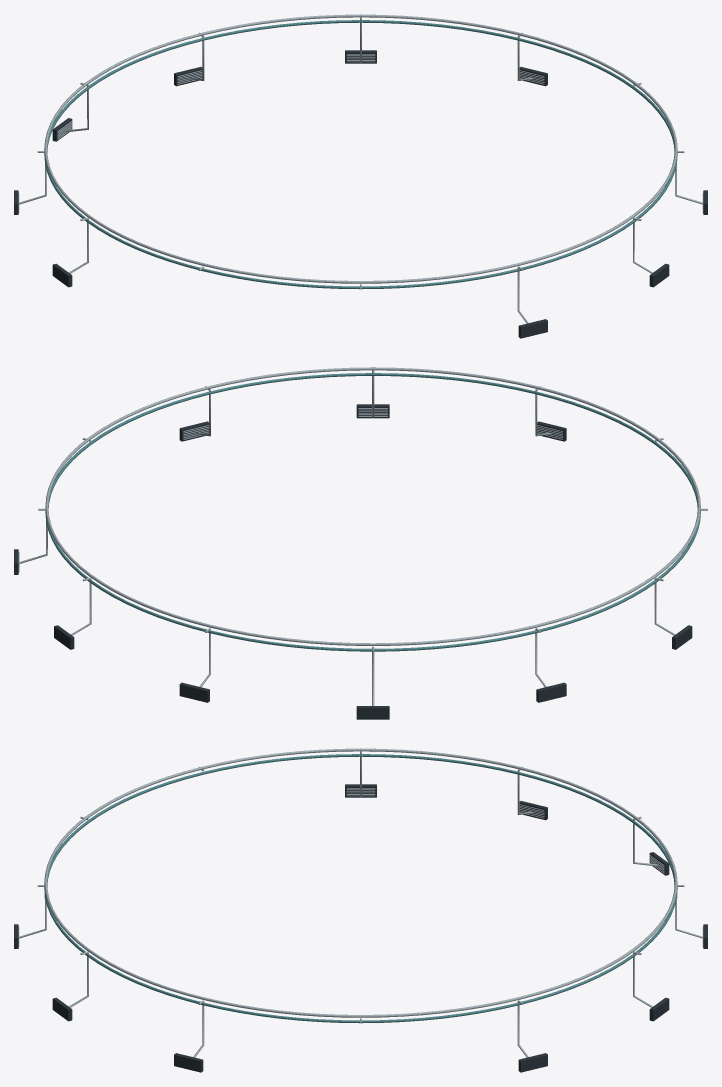
Rendered from RD_E03_Services.fbx.
The picture shows the model from 3 angles, top to bottom: view 1: azimuth 30°, elevation 25°; view 2: azimuth 150°, elevation 25°; view 3: azimuth 270°, elevation 25°; orthographic projection. The views are drawn at different scales.
Visible parts, largest first — view 1: RD_E03_Services; view 2: RD_E03_Services; view 3: RD_E03_Services.
Part boxes in pixels (x1,y1,x2,y2): RD_E03_Services: (14, 14, 707, 338); RD_E03_Services: (14, 367, 707, 719); RD_E03_Services: (14, 748, 707, 1072).
Size of the model in its own units: 1459 by 146 by 1511.
